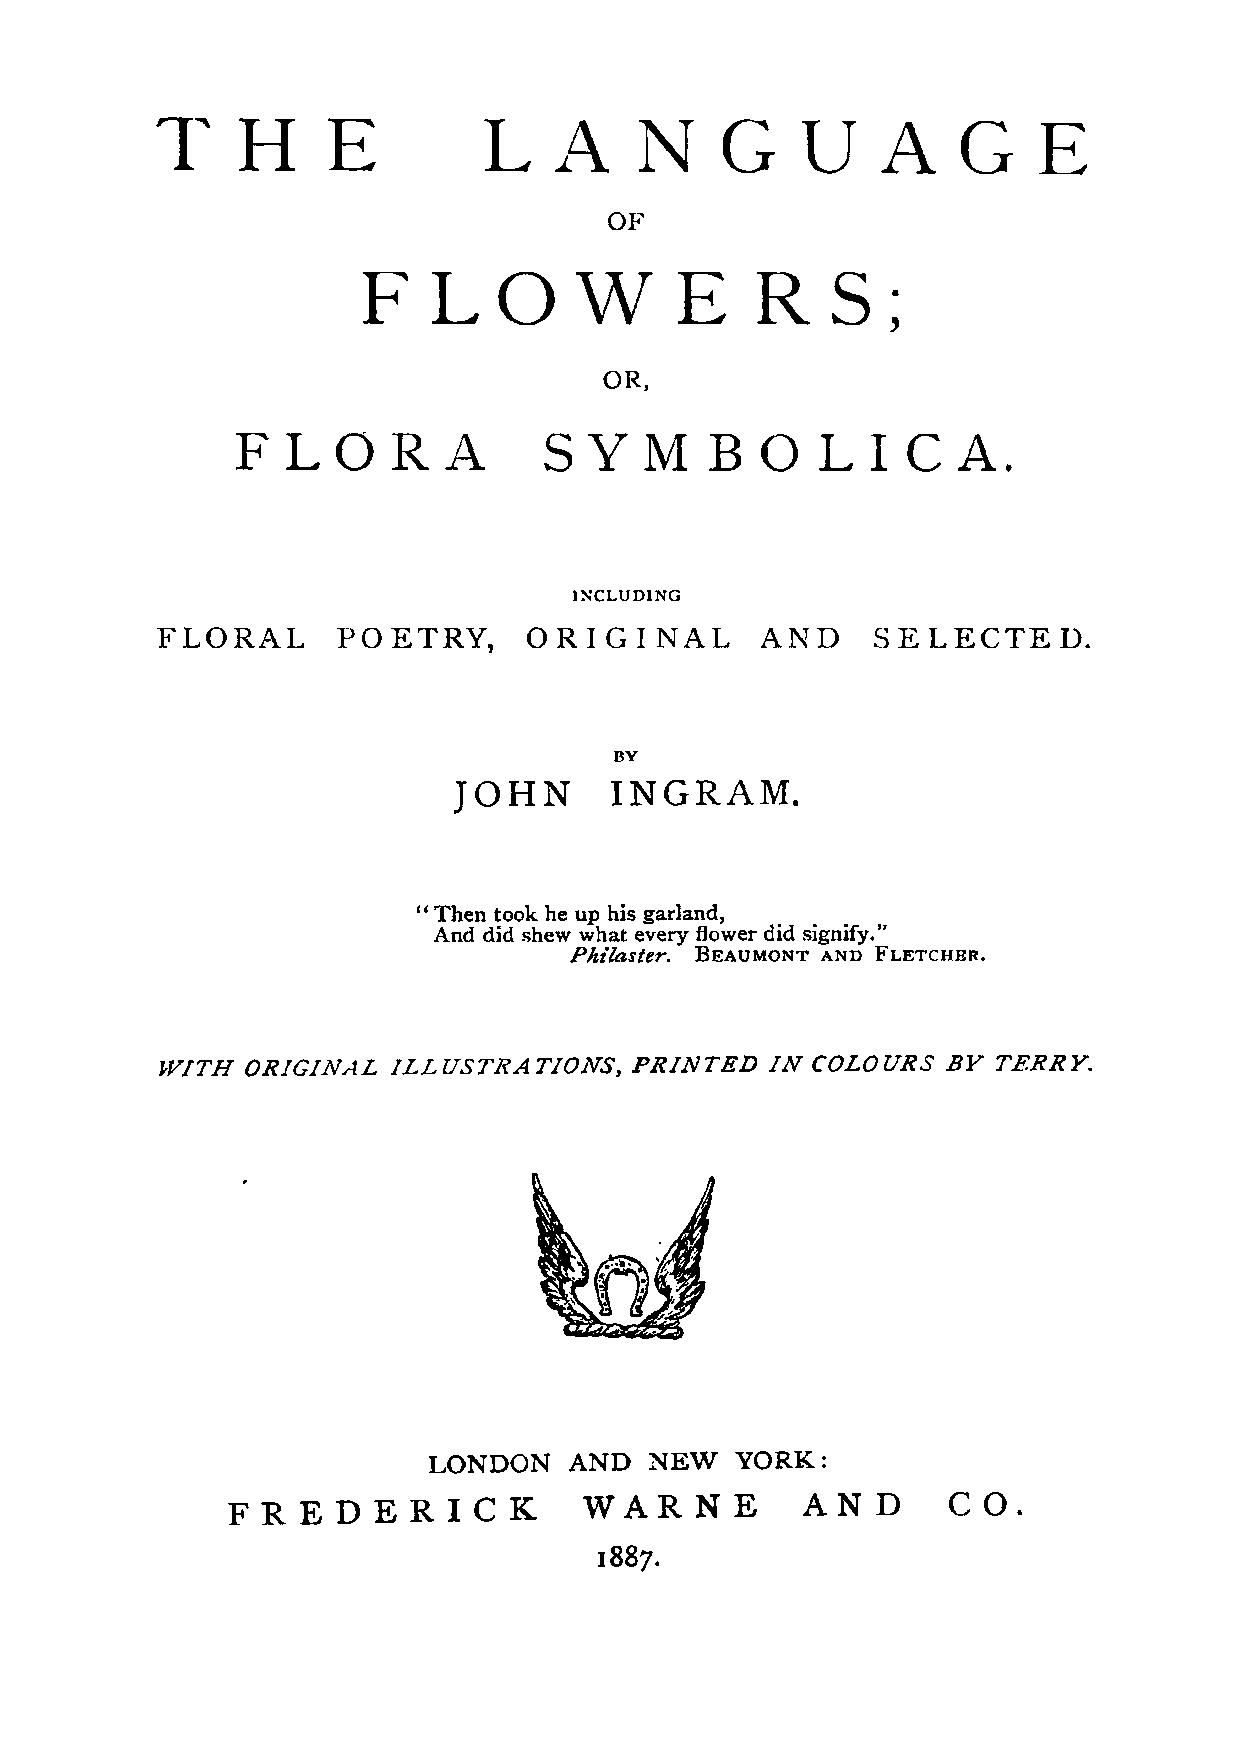author: (450, 747, 798, 819)
title: (152, 111, 1088, 474)
